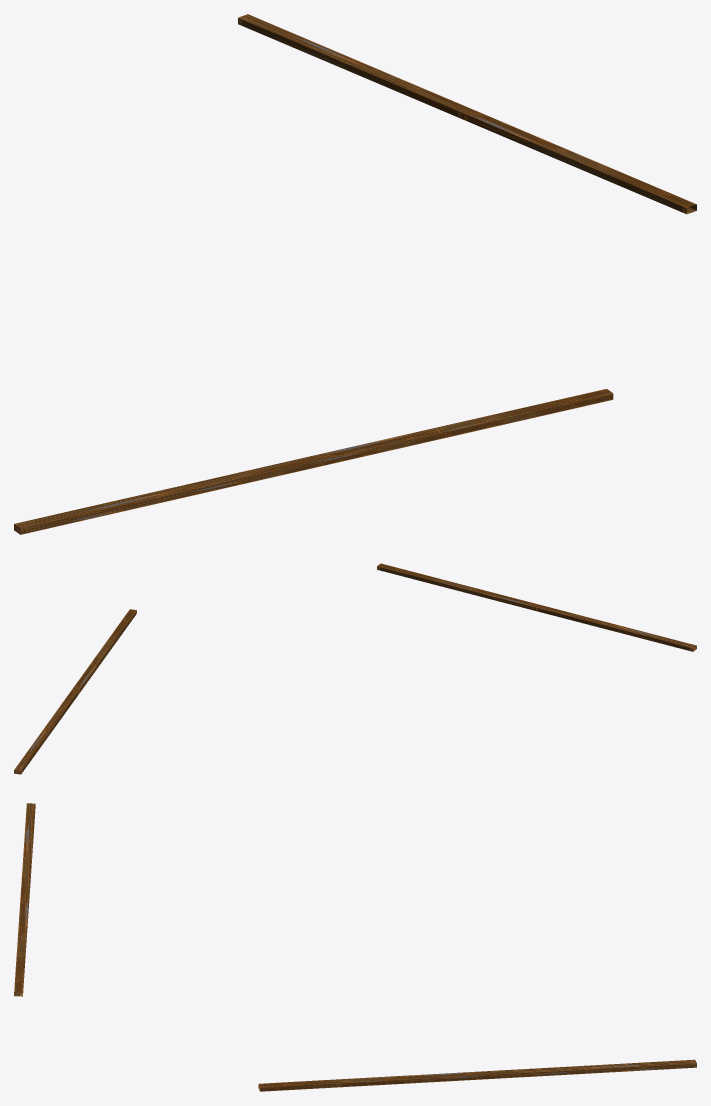
The picture shows the model from 3 angles, top to bottom: view 1: azimuth 30°, elevation 25°; view 2: azimuth 150°, elevation 25°; view 3: azimuth 270°, elevation 25°; orthographic projection. The views are drawn at different scales.
Visible parts, largest first — view 1: Cube.2052; view 2: Cube.2052; view 3: Cube.2052.
Part boxes in pixels (bbox=[...]): Cube.2052: bbox=[14, 14, 696, 534]; Cube.2052: bbox=[14, 563, 696, 774]; Cube.2052: bbox=[14, 803, 696, 1091].
Bounding box in the file's own units: 1680 × 77.73 × 1759.
Materials: 1 (1 with a texture image).
